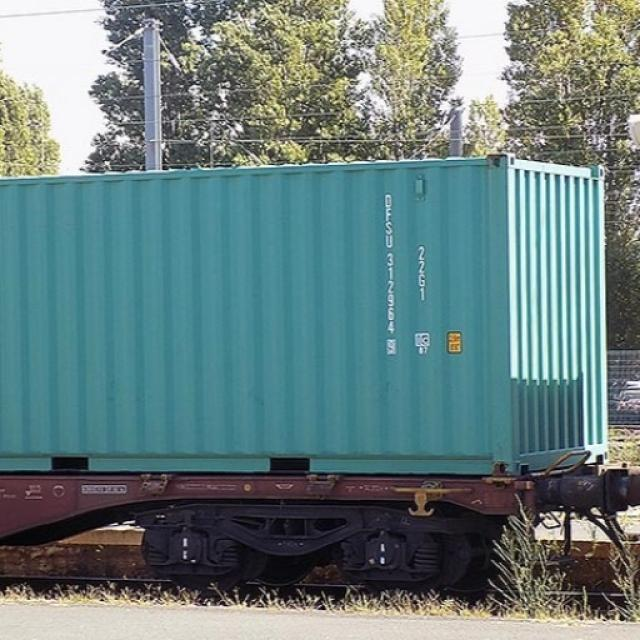ISO: (414, 239, 430, 317)
container_number: (374, 182, 404, 356)
